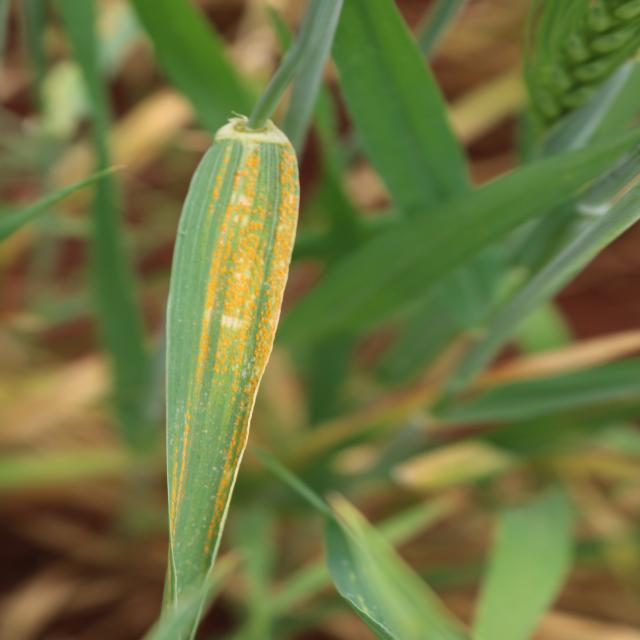Stripe Rust: (189, 149, 300, 394)
